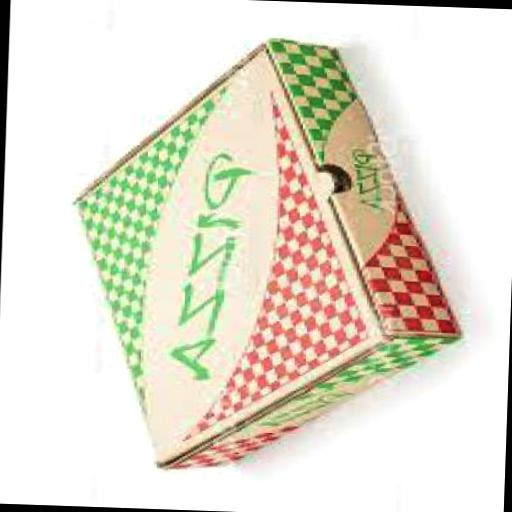cardboard: (60, 29, 469, 478)
